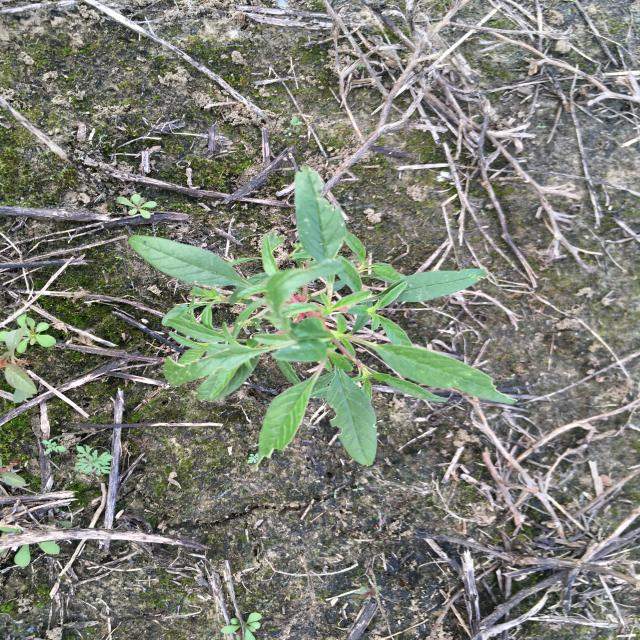Carpetweed: (15, 316, 59, 352), (117, 192, 161, 222)
Ragweed: (70, 445, 116, 482)
Waterhemp: (126, 163, 521, 470)
